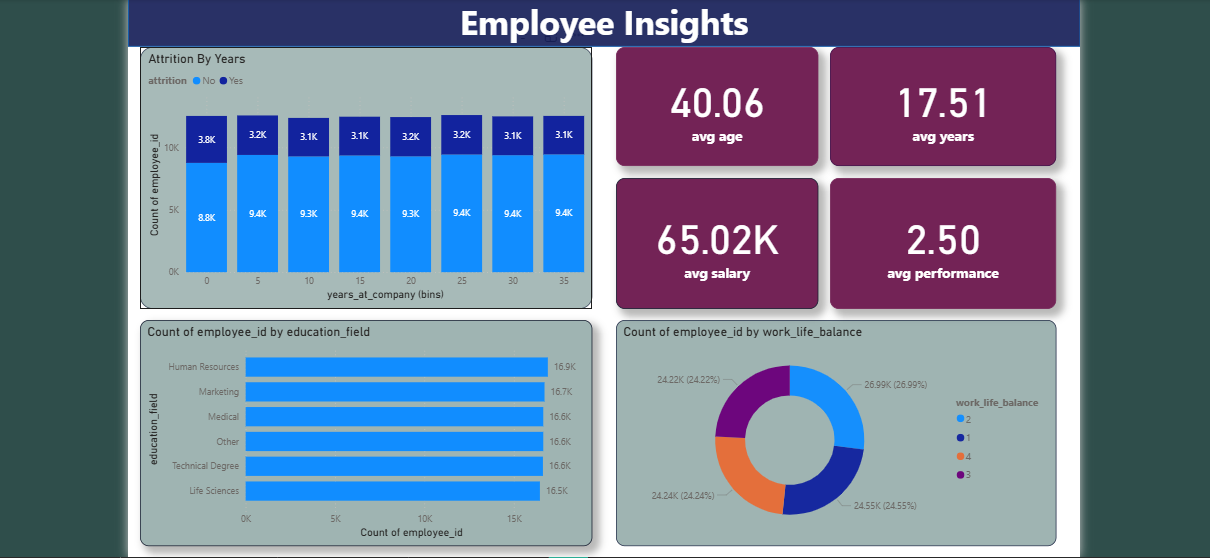

This screenshot's page, from the dashboard's own definition file:
{"tool":"powerbi","page":{"name":"Employee Insights","canvas":[1280,720],"ordinal":2},"visuals":[{"type":"columnChart","title":"Attrition By Years","fields":{"Category":["clean_hr_attrition_dataset_12.years_at_company (bins)"],"Y":["CountNonNull(clean_hr_attrition_dataset_12.employee_id)"],"Series":["clean_hr_attrition_dataset_12.attrition"]},"box":[32,0,592,320],"z":0},{"type":"barChart","fields":{"Category":["clean_hr_attrition_dataset_12.education_field"],"Y":["CountNonNull(clean_hr_attrition_dataset_12.employee_id)"]},"box":[32,400,592,288],"z":1000},{"type":"card","fields":{"Values":["clean_hr_attrition_dataset_12.avg age"]},"box":[656,0,256,144],"z":2000},{"type":"donutChart","fields":{"Category":["clean_hr_attrition_dataset_12.work_life_balance"],"Y":["CountNonNull(clean_hr_attrition_dataset_12.employee_id)"]},"box":[656,400,592,288],"z":3000},{"type":"card","fields":{"Values":["clean_hr_attrition_dataset_12.avg salary"]},"box":[656,176,256,144],"z":4000},{"type":"card","fields":{"Values":["clean_hr_attrition_dataset_12.avg years"]},"box":[960,0,288,144],"z":5000},{"type":"card","fields":{"Values":["clean_hr_attrition_dataset_12.avg performance"]},"box":[960,176,288,144],"z":6000}]}

Visuals, with their boxes on the page's 1280x720 design canvas (x1, y1, x2, y2). These are canvas units, not pixel positions in the 1210x558 screenshot, which may show the page scaled, cropped or inside an application window:
"Attrition By Years" columnChart: {"left": 32, "top": 0, "right": 624, "bottom": 320}
barChart - clean_hr_attrition_dataset_12.education_field x CountNonNull(clean_hr_attrition_dataset_12.employee_id): {"left": 32, "top": 400, "right": 624, "bottom": 688}
card - clean_hr_attrition_dataset_12.avg age: {"left": 656, "top": 0, "right": 912, "bottom": 144}
donutChart - clean_hr_attrition_dataset_12.work_life_balance x CountNonNull(clean_hr_attrition_dataset_12.employee_id): {"left": 656, "top": 400, "right": 1248, "bottom": 688}
card - clean_hr_attrition_dataset_12.avg salary: {"left": 656, "top": 176, "right": 912, "bottom": 320}
card - clean_hr_attrition_dataset_12.avg years: {"left": 960, "top": 0, "right": 1248, "bottom": 144}
card - clean_hr_attrition_dataset_12.avg performance: {"left": 960, "top": 176, "right": 1248, "bottom": 320}
